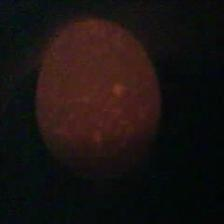fertile: (32, 16, 164, 179)
